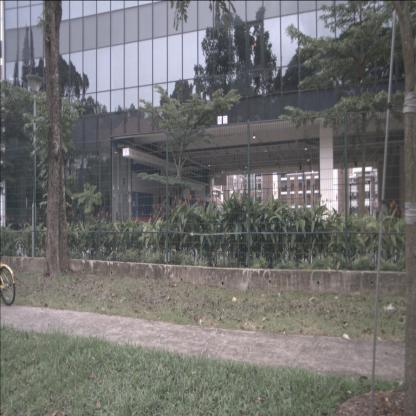vehicle-bicycle: (0, 260, 16, 306)
